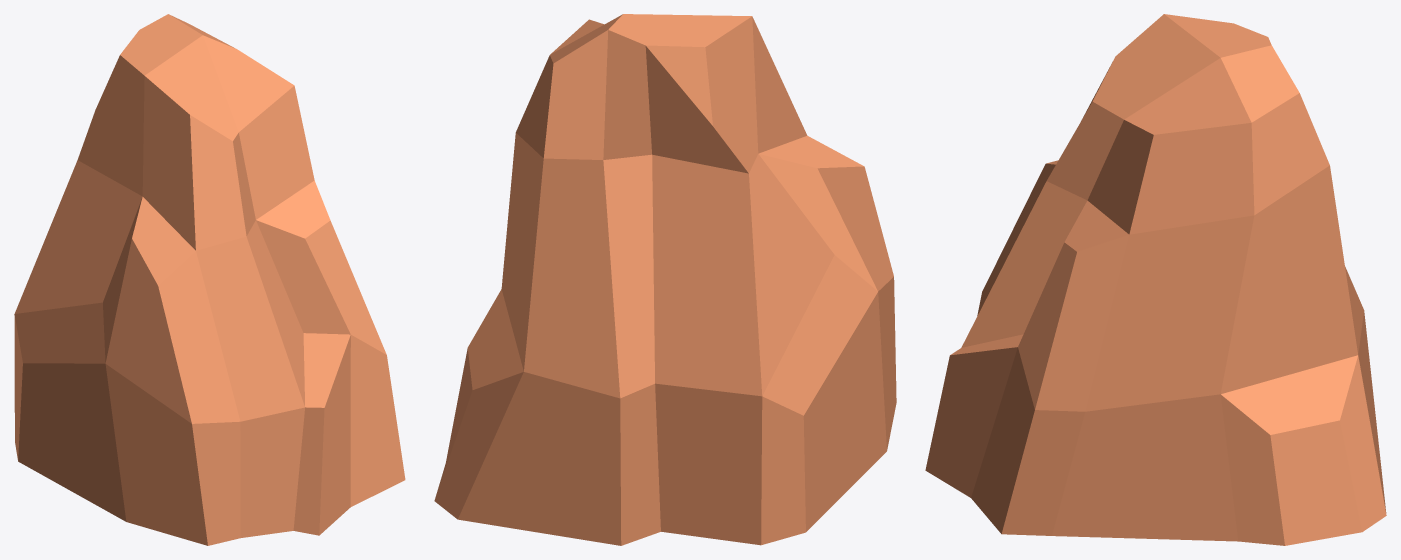
The model's file is Rock_3.fbx.
3 views of the same model, side by side, from view 1: azimuth 30°, elevation 25°; view 2: azimuth 150°, elevation 25°; view 3: azimuth 270°, elevation 25° (orthographic). The views are drawn at different scales.
Parts seen in each view (by area): view 1: Rock_3; view 2: Rock_3; view 3: Rock_3.
Boxes of the visible parts, left/top/right/bottom form: Rock_3: left=14, top=14, right=405, bottom=545; Rock_3: left=434, top=14, right=896, bottom=545; Rock_3: left=925, top=14, right=1386, bottom=545.
Bounding box in the file's own units: 101 × 132 × 128.
